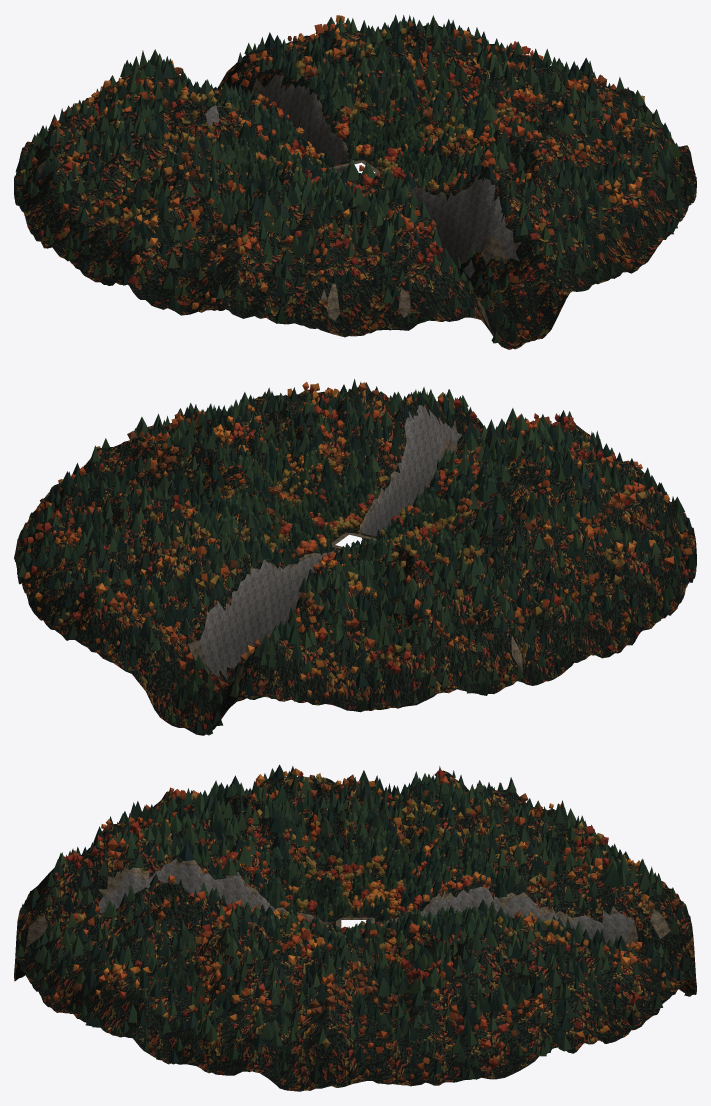
Rendered from backdrop_near_rect_ascent_autumn.glb.
3 renders of one model, top to bottom at view 1: azimuth 30°, elevation 25°; view 2: azimuth 150°, elevation 25°; view 3: azimuth 270°, elevation 25°, orthographic.
Visible parts, largest first — view 1: near_land_S, near_land_W, trees_land_S_0, trees_land_W_0, trees_land_E_0, trees_land_N_0, near_land_E, near_land_N; view 2: near_land_N, near_land_W, trees_land_N_0, trees_land_W_0, trees_land_E_0, trees_land_S_0, near_land_E, near_land_S; view 3: near_land_E, trees_land_E_0, near_land_S, trees_land_W_0, near_land_N, trees_land_N_0, trees_land_S_0, near_land_W.
Part boxes in pixels (box(x1,y1,x2,y2)): near_land_S: box(266, 124, 683, 349); near_land_W: box(14, 101, 330, 318); trees_land_S_0: box(272, 120, 681, 343); trees_land_W_0: box(15, 93, 341, 312); trees_land_E_0: box(362, 15, 695, 215); trees_land_N_0: box(31, 14, 438, 165); near_land_E: box(360, 25, 696, 216); near_land_N: box(26, 24, 429, 172); near_land_N: box(26, 510, 445, 735); near_land_W: box(378, 460, 696, 694); trees_land_N_0: box(35, 502, 442, 735); trees_land_W_0: box(375, 456, 696, 695); trees_land_E_0: box(17, 387, 350, 587); trees_land_S_0: box(284, 379, 684, 536); near_land_E: box(14, 396, 355, 593); near_land_S: box(274, 386, 672, 541); near_land_E: box(113, 909, 595, 1091); trees_land_E_0: box(116, 904, 591, 1089); near_land_S: box(14, 812, 342, 1035); trees_land_W_0: box(118, 764, 566, 916); near_land_N: box(375, 814, 696, 1043); trees_land_N_0: box(378, 806, 694, 1035); trees_land_S_0: box(16, 801, 333, 1034); near_land_W: box(141, 770, 567, 920).
Size of the model in its own units: 577 by 172 by 576.
4 materials, 3 textured.
